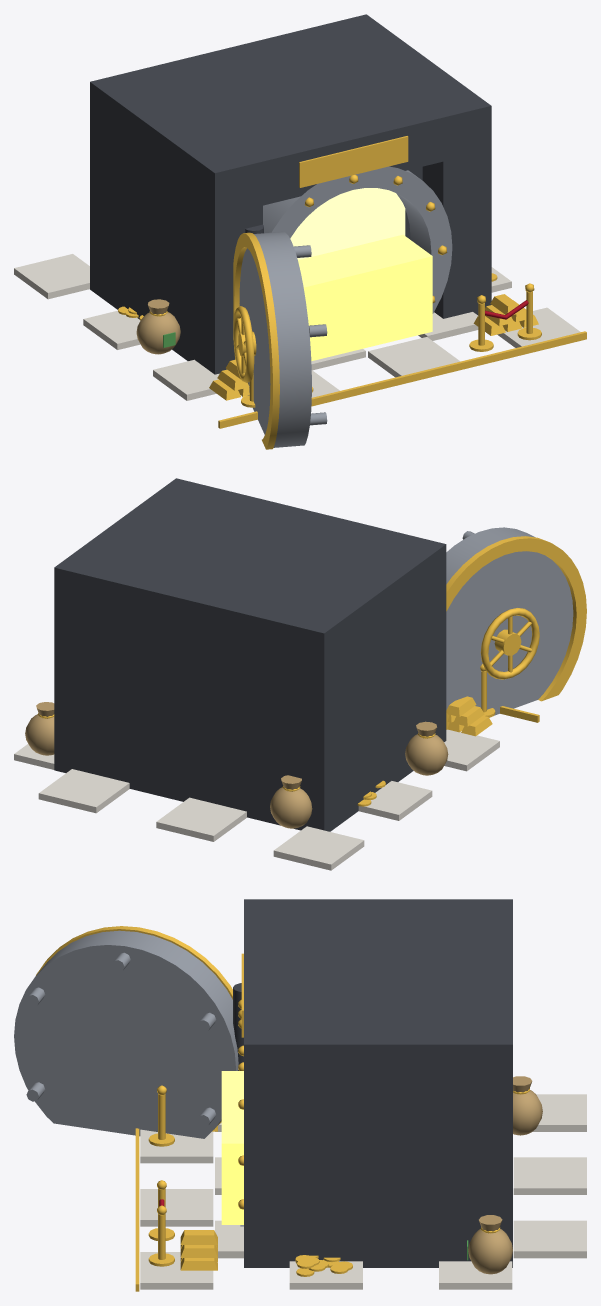
The model's file is GoldVaultFurnace_Roblox.fbx.
The picture shows the model from 3 angles, top to bottom: view 1: azimuth 30°, elevation 25°; view 2: azimuth 150°, elevation 25°; view 3: azimuth 270°, elevation 25°; orthographic projection. The views are drawn at different scales.
Visible parts, largest first — view 1: DarkSteel, VaultSteel, Gold, BurnZone, MarbleFloor, VaultGlow, MoneyBag; view 2: DarkSteel, VaultSteel, MarbleFloor, Gold, MoneyBag; view 3: DarkSteel, VaultSteel, MarbleFloor, Gold, BurnZone, MoneyBag.
Boxes of the visible parts, x1,y1,x2,y2 form: DarkSteel: (90, 14, 491, 374); VaultSteel: (239, 166, 452, 447); Gold: (118, 136, 586, 449); BurnZone: (298, 234, 432, 361); MarbleFloor: (14, 254, 580, 400); VaultGlow: (290, 188, 405, 259); MoneyBag: (136, 299, 180, 354); DarkSteel: (54, 478, 446, 831); VaultSteel: (446, 527, 573, 715); MarbleFloor: (14, 729, 499, 870); Gold: (37, 536, 586, 806); MoneyBag: (25, 702, 448, 828); DarkSteel: (233, 899, 512, 1267); VaultSteel: (14, 930, 243, 1226); MarbleFloor: (140, 1094, 586, 1289); Gold: (36, 926, 529, 1291); BurnZone: (221, 1071, 243, 1224); MoneyBag: (468, 1076, 542, 1274).
Size of the model in its own units: 1220 by 670 by 1534.
